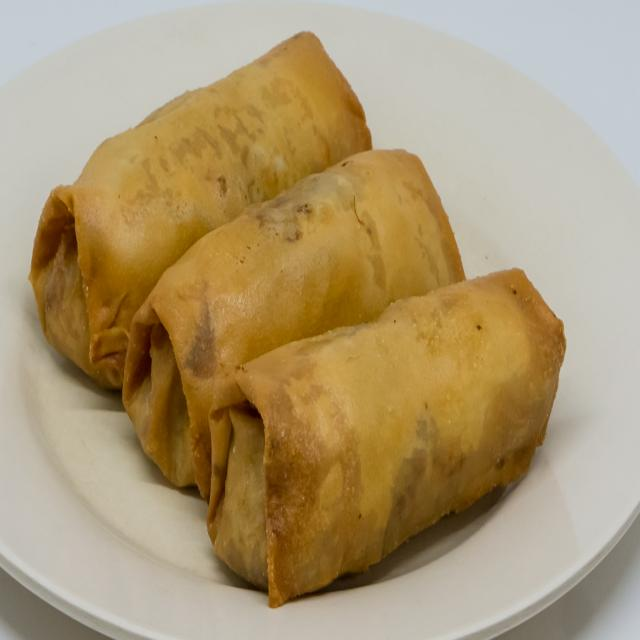Lumpia-Semarang: (12, 15, 571, 615)
